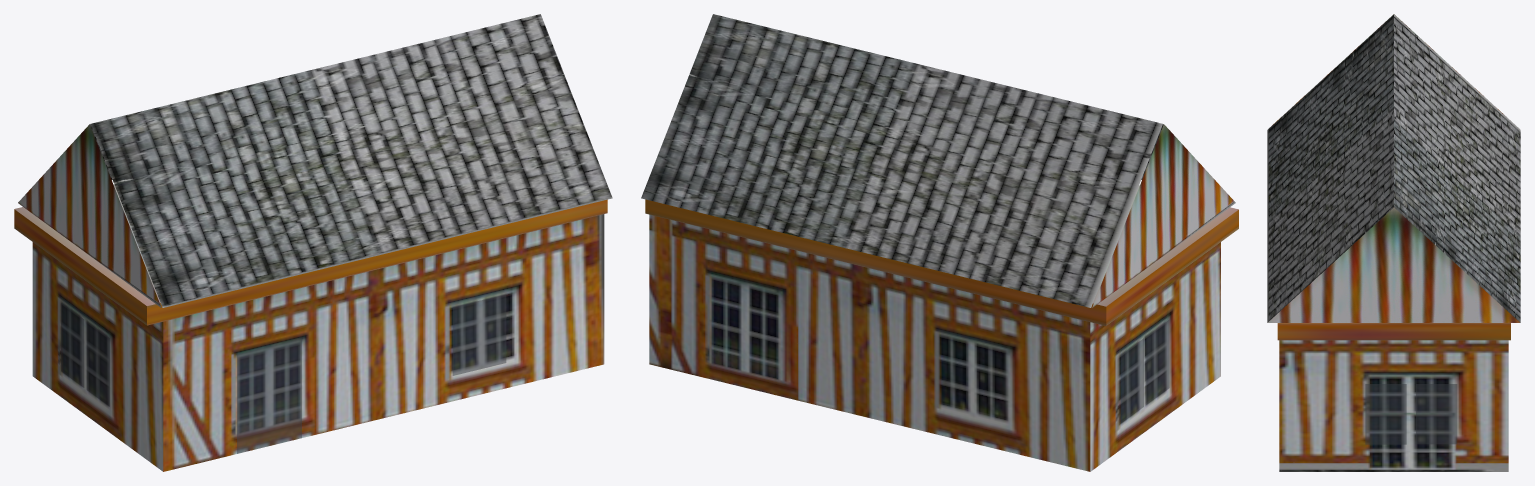
Rendered from maison-a.glb.
3 renders of one model, left to right at view 1: azimuth 30°, elevation 25°; view 2: azimuth 150°, elevation 25°; view 3: azimuth 270°, elevation 25°, orthographic. The views are drawn at different scales.
Parts seen in each view (by area): view 1: toit, mur, fenetre; view 2: toit, mur, fenetre; view 3: toit, mur, fenetre.
Boxes of the visible parts, x1,y1,x2,y2 form: toit: (14,14,612,325); mur: (32,214,604,471); fenetre: (61,294,506,453); toit: (641,14,1238,325); mur: (649,214,1220,471); fenetre: (1120,319,1169,423); toit: (1267,14,1520,340); mur: (1279,340,1508,471); fenetre: (1365,384,1457,444).
Bounding box in the file's own units: 7.71 × 4.83 × 4.17.
Materials: 2 (1 with a texture image).
